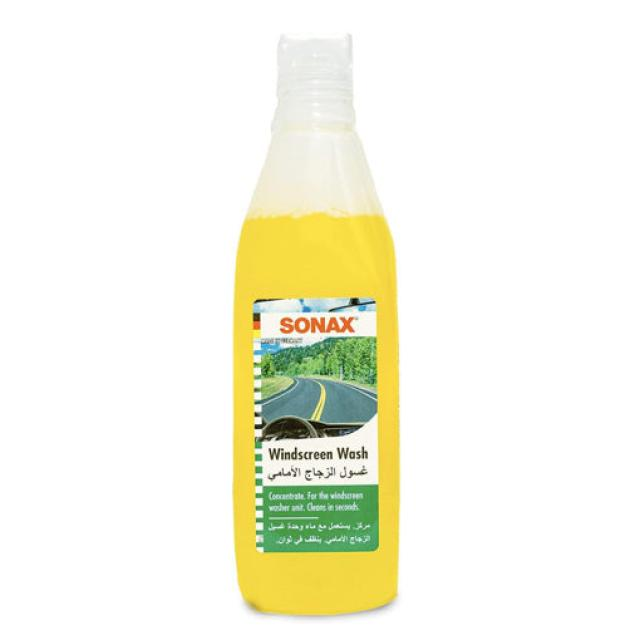winwinshield_washer: (234, 25, 408, 617)
